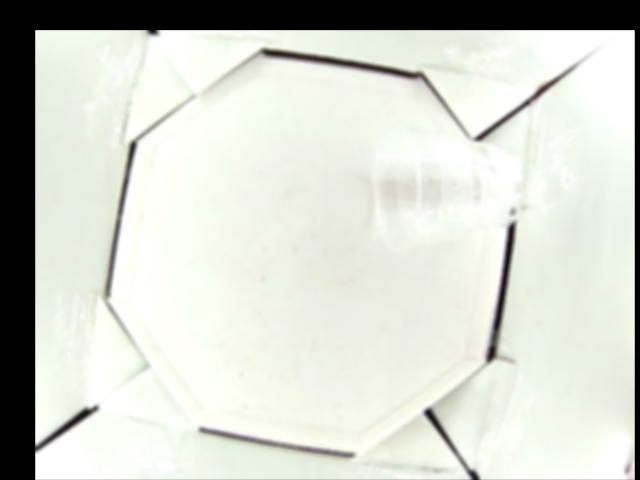Cup: (371, 128, 527, 255)
